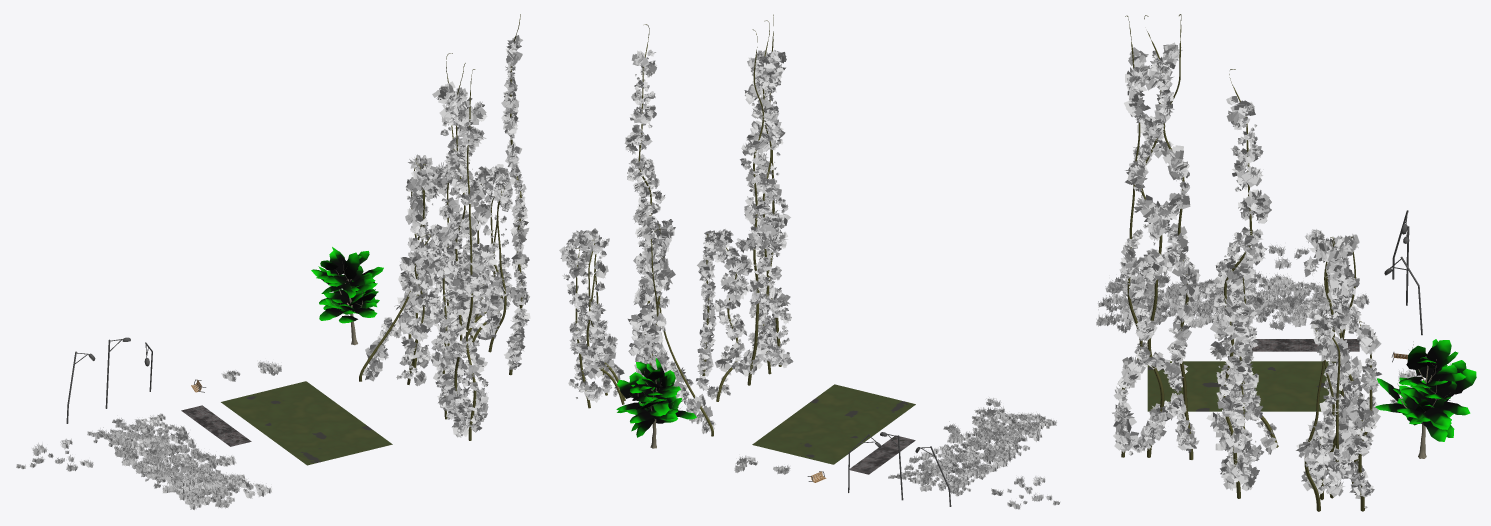
File: CityTekliobjeler.fbx
The picture shows the model from 3 angles, left to right: view 1: azimuth 30°, elevation 25°; view 2: azimuth 150°, elevation 25°; view 3: azimuth 270°, elevation 25°; orthographic projection. The views are drawn at different scales.
Parts seen in each view (by area): view 1: sarmasık.002, grass.001, zemin.001, sarmasık.005, sarmasık.004, sarmasık.003, sarmasık.006, agacgovde, zeminbinakenarı, grass.004; view 2: sarmasık.002, zemin.001, grass.001, sarmasık.005, sarmasık.004, sarmasık.006, sarmasık.003, agacgovde, zeminbinakenarı, grass.004; view 3: sarmasık.002, sarmasık.003, sarmasık.005, grass.001, zemin.001, agacgovde, sarmasık.006, sarmasık.004, zeminbinakenarı, grass.004.
Boxes of the visible parts, x1=… form: sarmasık.002: x1=426, y1=53, x2=489, y2=440; grass.001: x1=87, y1=413, x2=271, y2=509; zemin.001: x1=221, y1=381, x2=392, y2=465; sarmasık.005: x1=462, y1=164, x2=515, y2=352; sarmasık.004: x1=396, y1=224, x2=464, y2=386; sarmasık.003: x1=501, y1=14, x2=530, y2=375; sarmasık.006: x1=359, y1=154, x2=449, y2=381; agacgovde: x1=311, y1=247, x2=383, y2=345; zeminbinakenarı: x1=181, y1=405, x2=251, y2=446; grass.004: x1=16, y1=438, x2=93, y2=471; sarmasık.002: x1=735, y1=14, x2=793, y2=385; zemin.001: x1=752, y1=384, x2=915, y2=464; grass.001: x1=888, y1=397, x2=1056, y2=496; sarmasık.005: x1=559, y1=228, x2=625, y2=408; sarmasık.004: x1=696, y1=228, x2=752, y2=401; sarmasık.006: x1=634, y1=215, x2=716, y2=436; sarmasık.003: x1=624, y1=24, x2=665, y2=356; agacgovde: x1=616, y1=358, x2=696, y2=448; zeminbinakenarı: x1=849, y1=435, x2=915, y2=474; grass.004: x1=991, y1=476, x2=1060, y2=509; sarmasık.002: x1=1112, y1=14, x2=1200, y2=459; sarmasık.003: x1=1205, y1=69, x2=1271, y2=498; sarmasık.005: x1=1296, y1=304, x2=1381, y2=511; grass.001: x1=1096, y1=270, x2=1369, y2=333; zemin.001: x1=1147, y1=361, x2=1340, y2=411; agacgovde: x1=1375, y1=339, x2=1476, y2=458; sarmasık.006: x1=1303, y1=232, x2=1365, y2=483; sarmasık.004: x1=1215, y1=254, x2=1278, y2=461; zeminbinakenarı: x1=1249, y1=339, x2=1359, y2=351; grass.004: x1=1268, y1=229, x2=1354, y2=269.
Size of the model in its own units: 2365 by 1681 by 1293.
